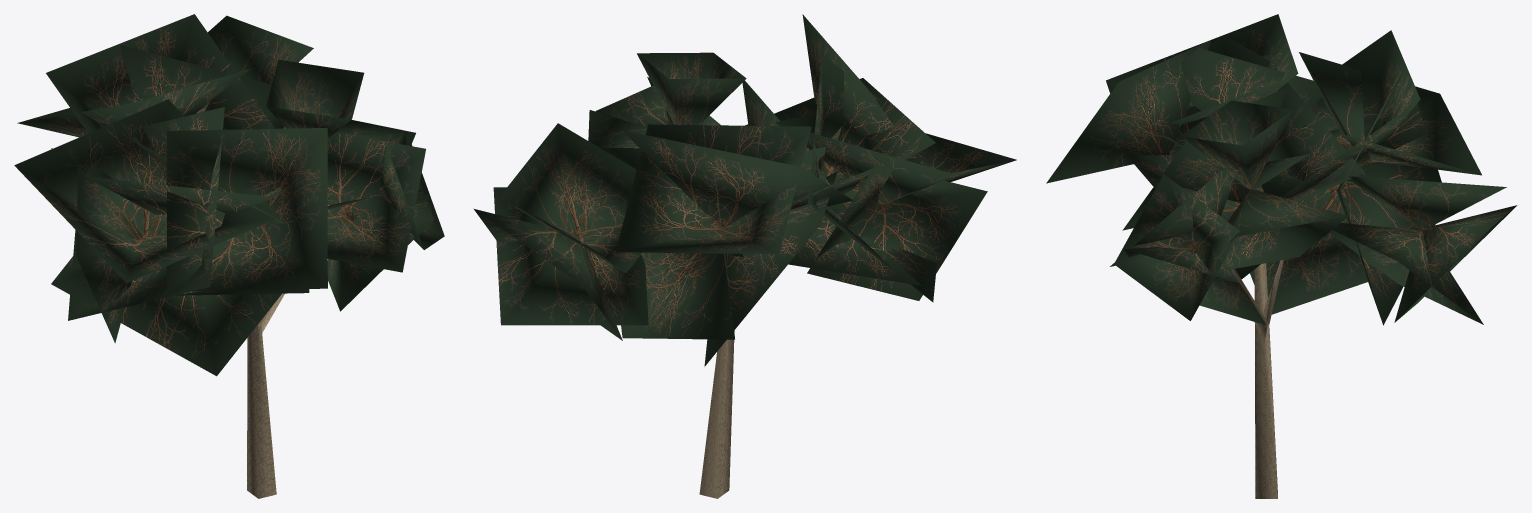
File: decd_mapletreebranches_a2_l2.fbx
3 renders of one model, left to right at view 1: azimuth 30°, elevation 25°; view 2: azimuth 150°, elevation 25°; view 3: azimuth 270°, elevation 25°, orthographic. The views are drawn at different scales.
Parts seen in each view (by area): view 1: mesh_node; view 2: mesh_node; view 3: mesh_node.
Part boxes in pixels (box(x1,y1,x2,y2)): mesh_node: box(14, 14, 444, 498); mesh_node: box(473, 14, 1016, 498); mesh_node: box(1046, 14, 1517, 498).
Bounding box in the file's own units: 26.61 × 27.7 × 28.7.
